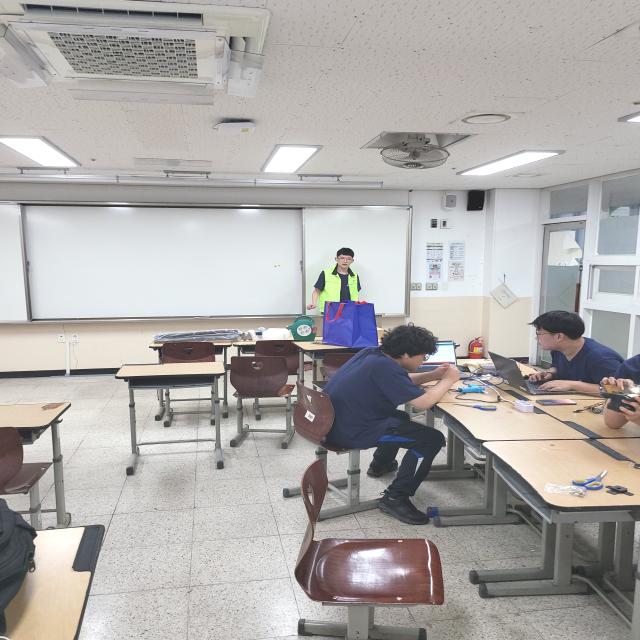weston_spy: (309, 262, 366, 322)
